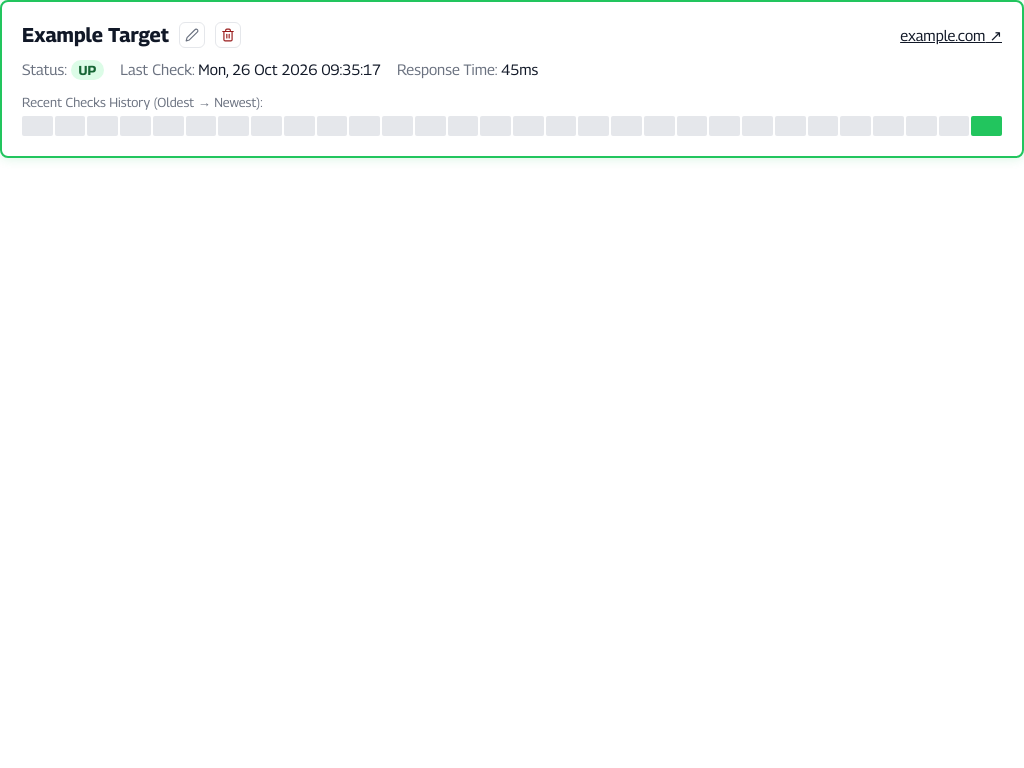
Test case: TargetCard component › closes the delete dialog without deleting when cancel is clicked
The width and height of the screenshot is (1024, 768).
Click the button named "delete example target": (228, 35) [215,22,241,48]
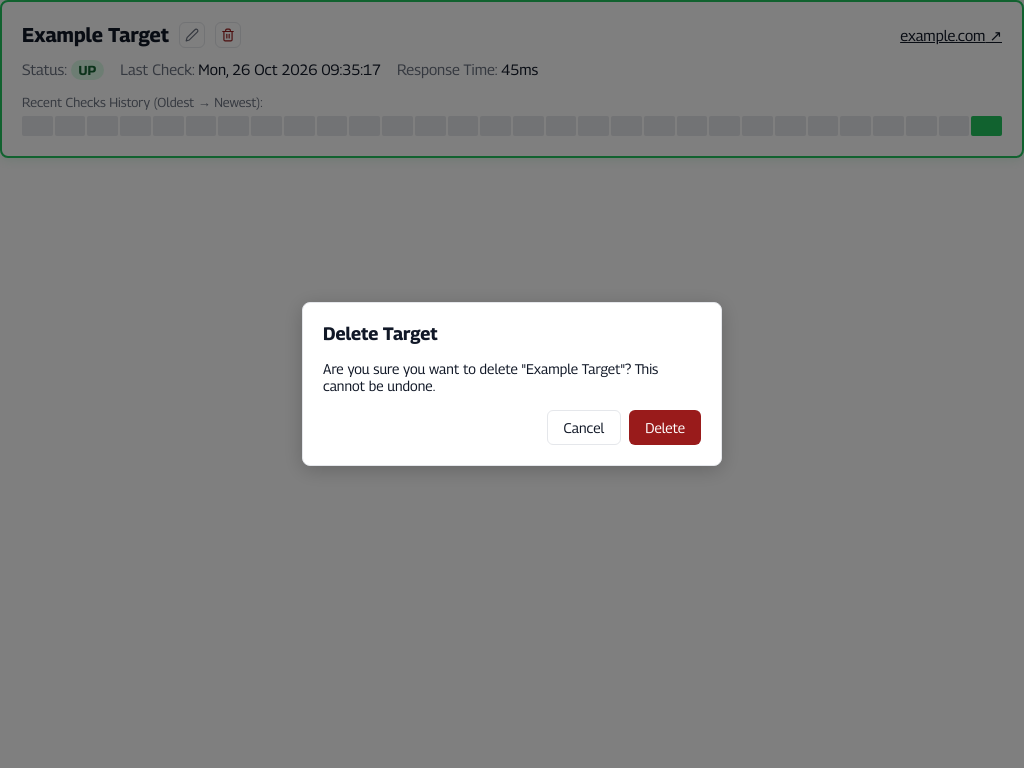
Click the button "Cancel": (584, 428) [546,410,621,445]
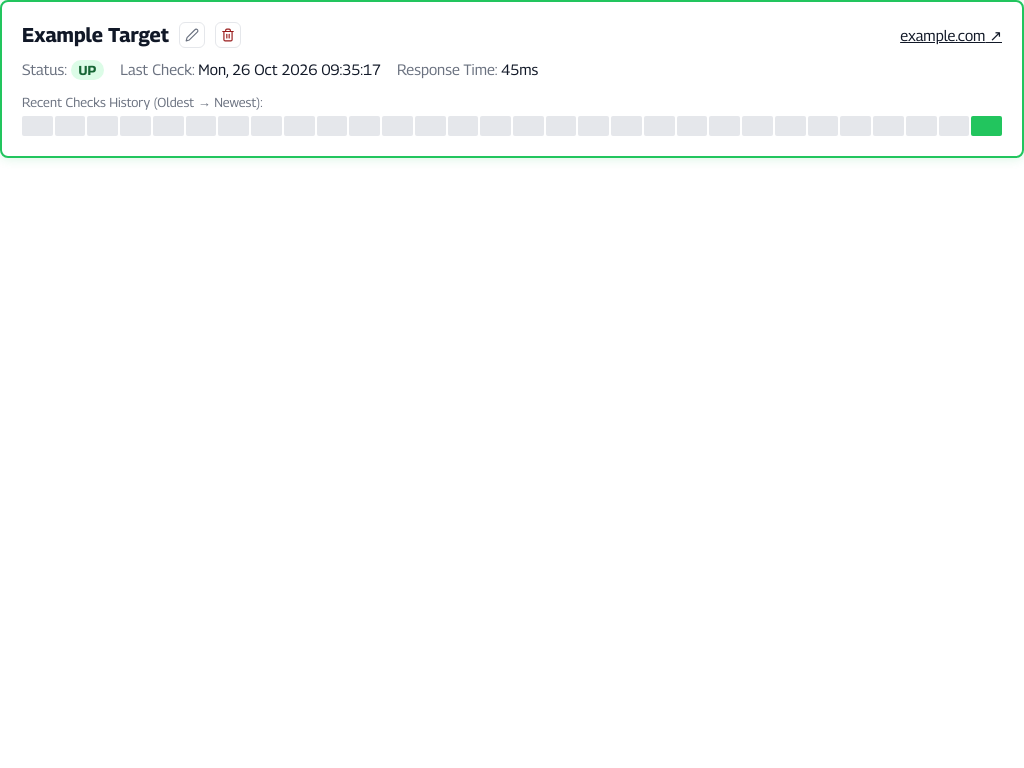
Now the text "Are you sure you want to delete" is gone
